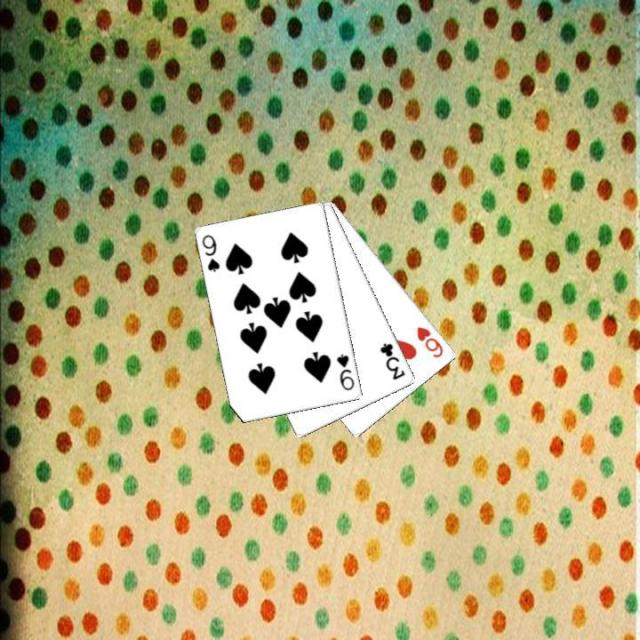3C: (376, 339, 407, 382)
6H: (414, 323, 446, 360)
9S: (198, 231, 222, 274), (334, 350, 356, 393)
